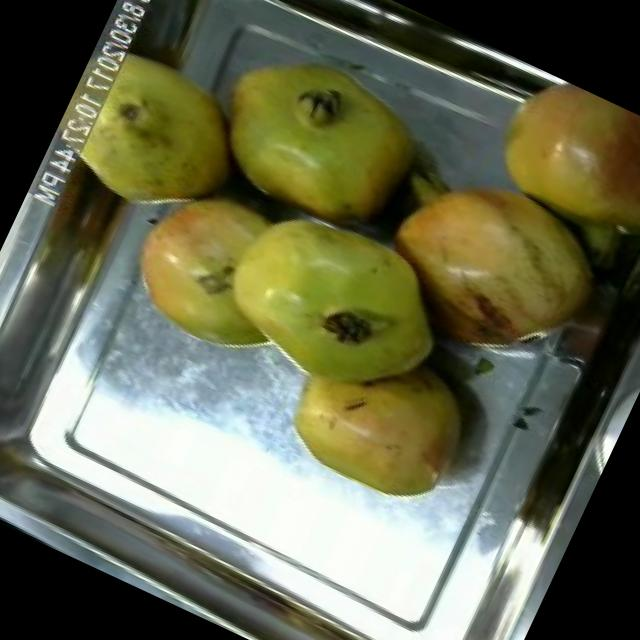fruit: (181, 168, 478, 430), (344, 134, 632, 396), (176, 12, 454, 261), (259, 308, 502, 530), (455, 57, 640, 290)
